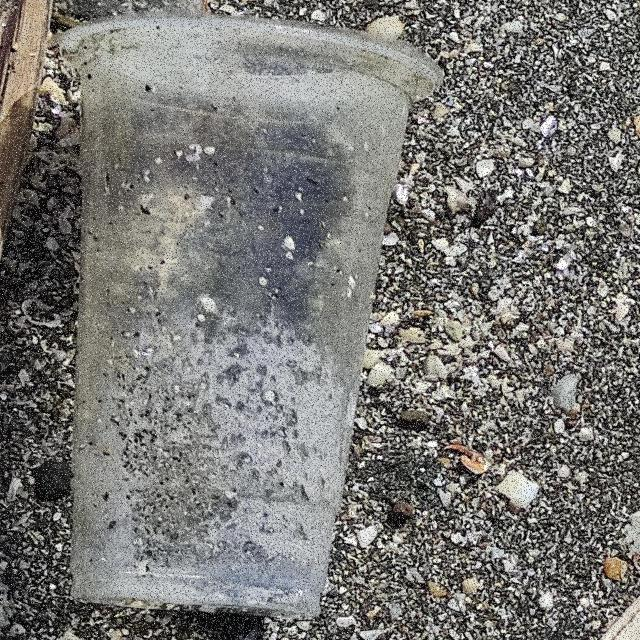plastic_waste: (59, 9, 445, 619)
